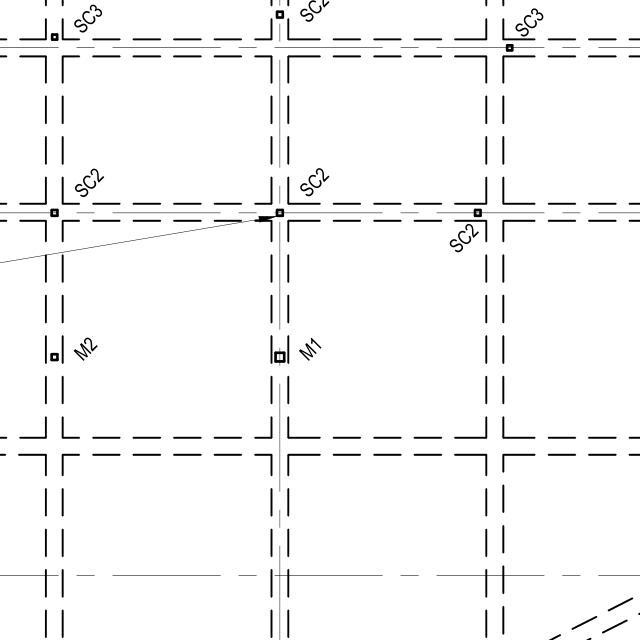M1: (290, 330, 327, 367)
M2: (69, 332, 102, 363)
SC2: (69, 163, 122, 202), (294, 159, 335, 198), (447, 220, 486, 256), (294, 0, 333, 28)
SC3: (505, 0, 550, 39), (69, 0, 103, 40)
